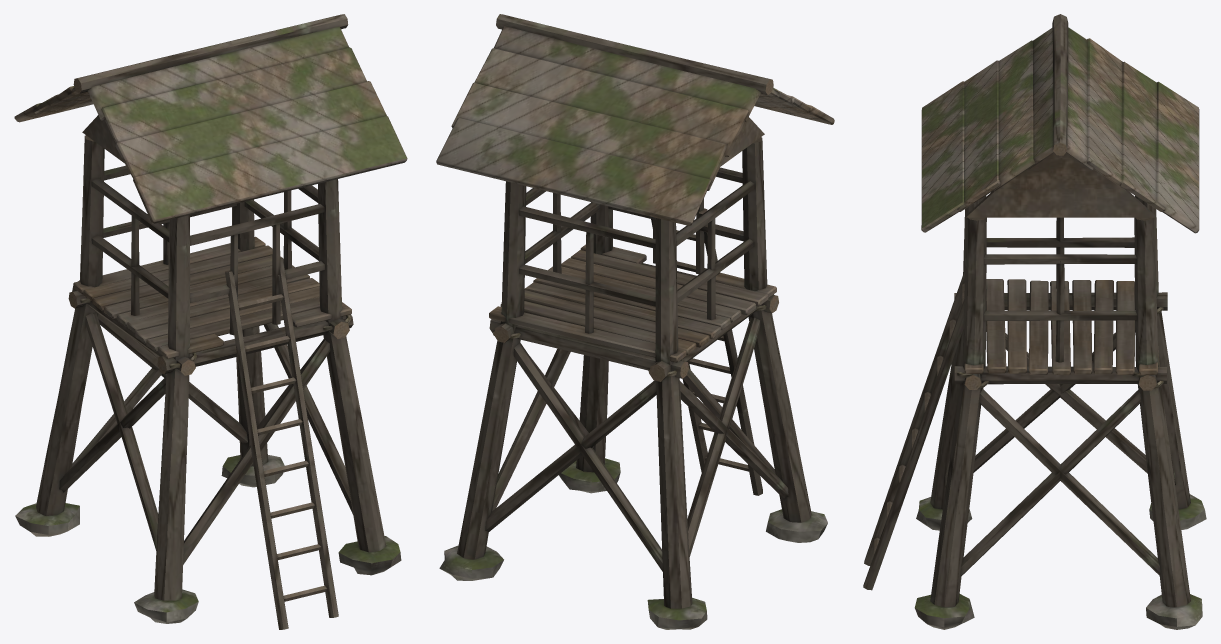
The model's file is fm_watchtower_small.glb.
3 views of the same model, side by side, from view 1: azimuth 30°, elevation 25°; view 2: azimuth 150°, elevation 25°; view 3: azimuth 270°, elevation 25° (orthographic). The views are drawn at different scales.
Visible parts, largest first — view 1: fm_watchtower_small; view 2: fm_watchtower_small; view 3: fm_watchtower_small.
Part boxes in pixels (bbox=[...]): fm_watchtower_small: bbox=[14, 14, 407, 629]; fm_watchtower_small: bbox=[436, 14, 834, 629]; fm_watchtower_small: bbox=[863, 14, 1206, 629].
Size of the model in its own units: 2.24 by 4.07 by 2.54.
Materials: 1 (1 with a texture image).
